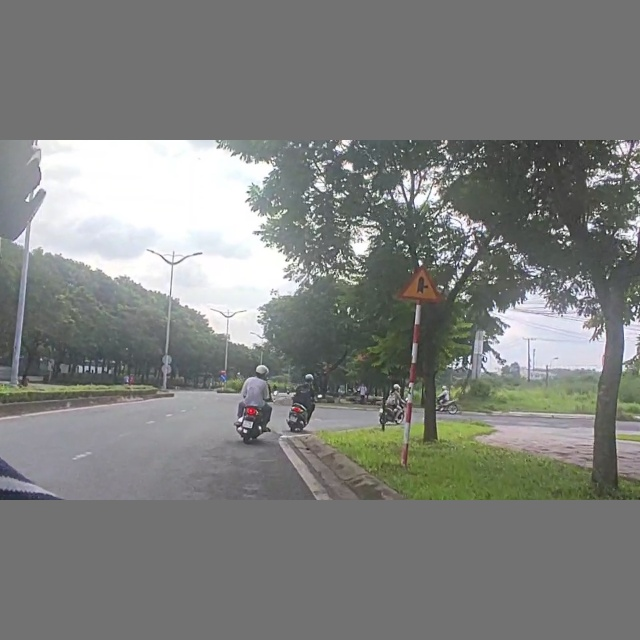W.207: (397, 263, 451, 305)
